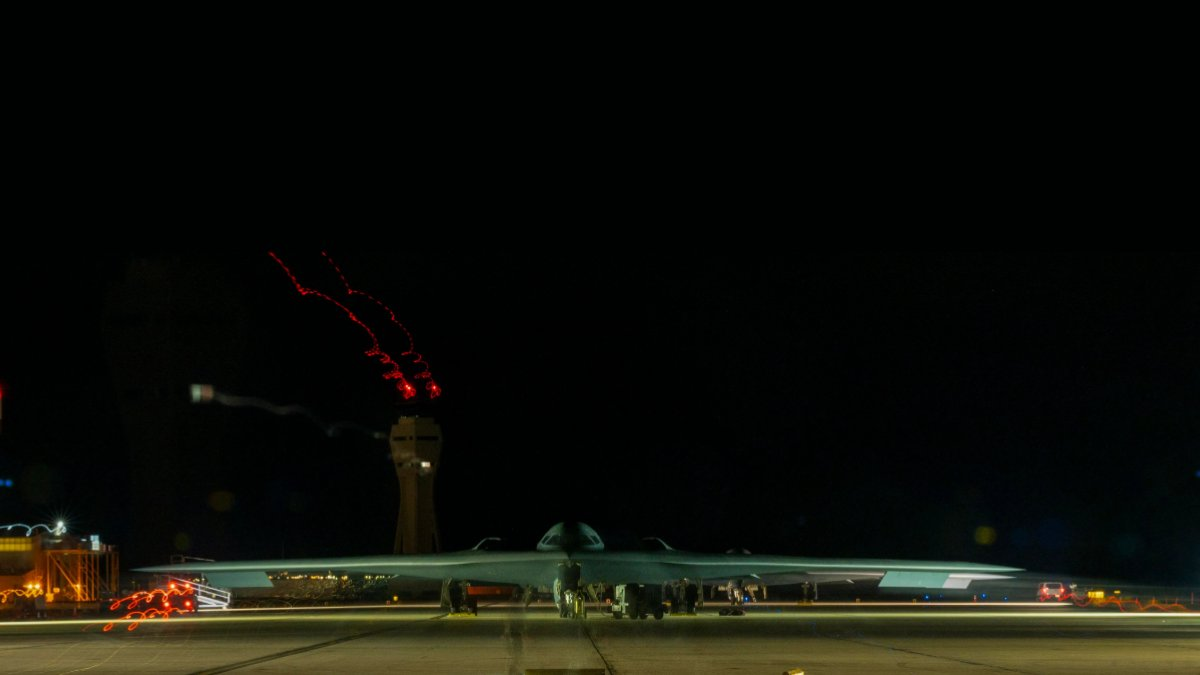B2: (127, 520, 1028, 619), (662, 545, 1018, 605)
